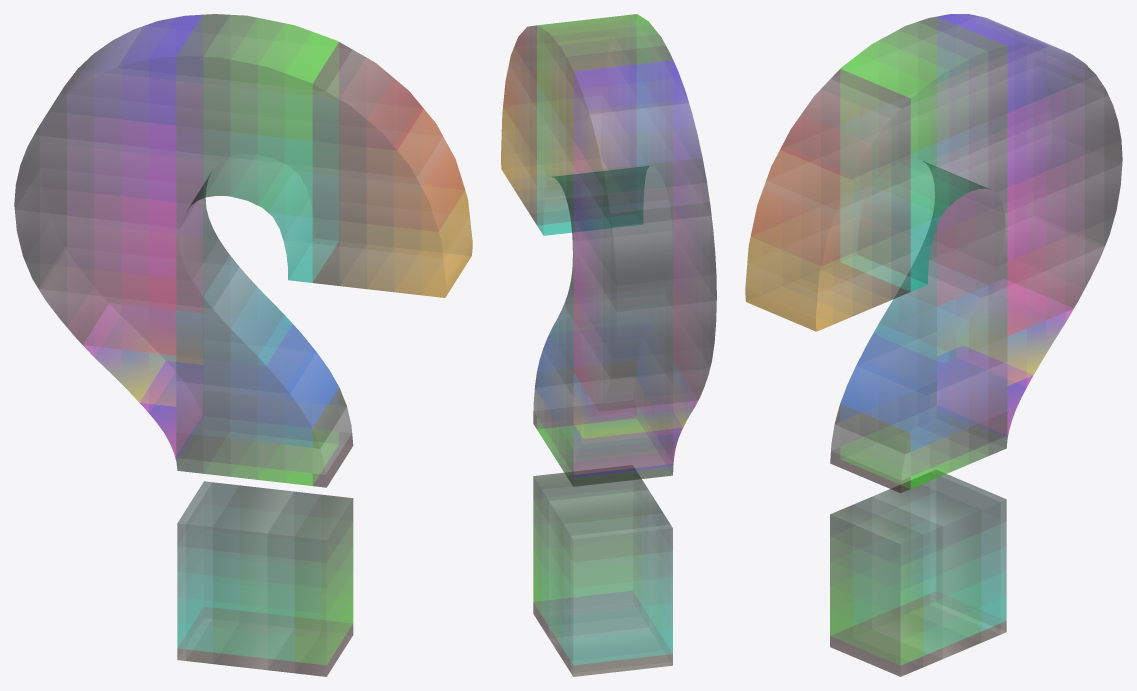
File: OBJ_QuestionMark.fbx
3 views of the same model, side by side, from view 1: azimuth 30°, elevation 25°; view 2: azimuth 150°, elevation 25°; view 3: azimuth 270°, elevation 25° (orthographic). The views are drawn at different scales.
Visible parts, largest first — view 1: OBJ_QuestionMark; view 2: OBJ_QuestionMark; view 3: OBJ_QuestionMark.
Part boxes in pixels (x1,y1,x2,y2): OBJ_QuestionMark: (14, 14, 472, 676); OBJ_QuestionMark: (501, 14, 716, 676); OBJ_QuestionMark: (745, 14, 1122, 676).
Bounding box in the file's own units: 49.51 × 85.34 × 49.51.
